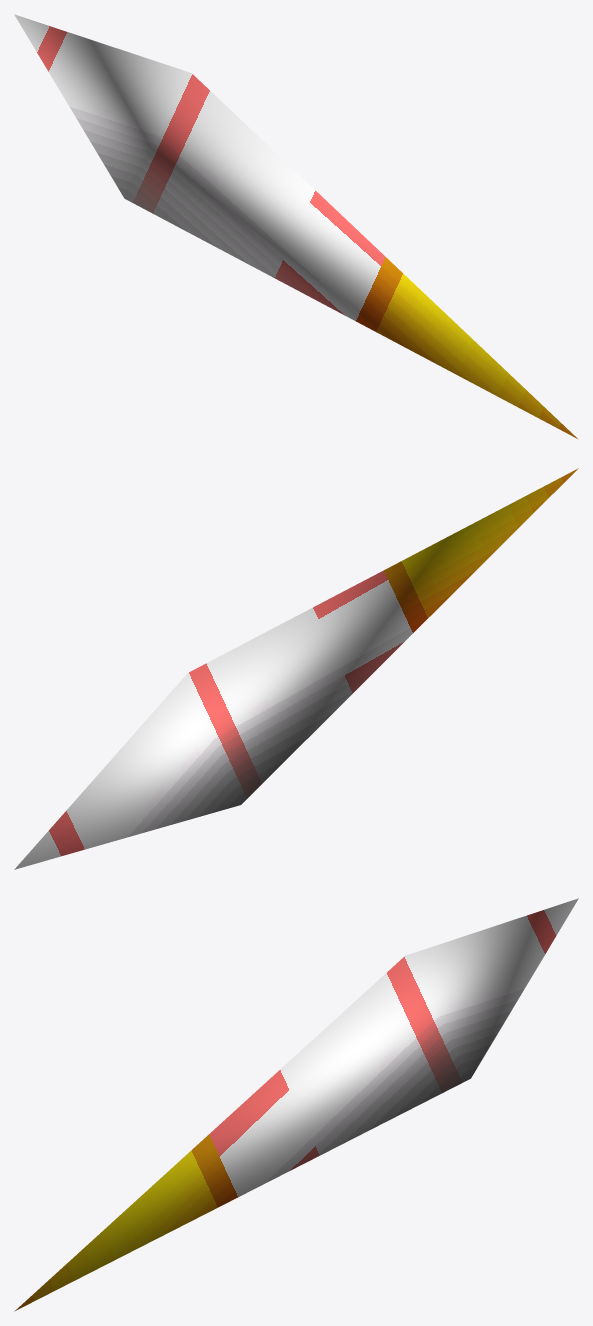
3 renders of one model, top to bottom at view 1: azimuth 30°, elevation 25°; view 2: azimuth 150°, elevation 25°; view 3: azimuth 330°, elevation 25°, orthographic. The views are drawn at different scales.
Visible parts, largest first — view 1: 80ffac4e; view 2: 80ffac4e; view 3: 80ffac4e.
Boxes of the visible parts, box(x1,y1,x2,y2) form: 80ffac4e: box(14, 14, 578, 439); 80ffac4e: box(14, 468, 578, 869); 80ffac4e: box(14, 898, 578, 1311).
Size of the model in its own units: 1.39 by 1.26 by 11.29.
Materials: 1 (1 with a texture image).
